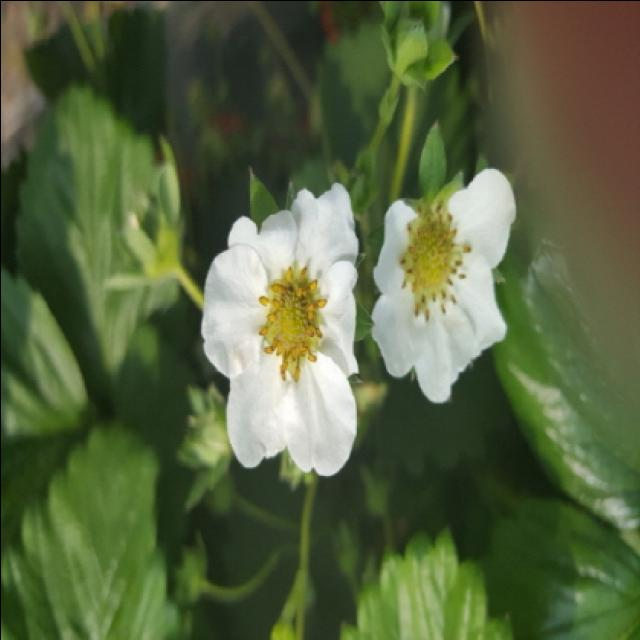Blossom Blight: (394, 194, 475, 325), (250, 259, 328, 387)
